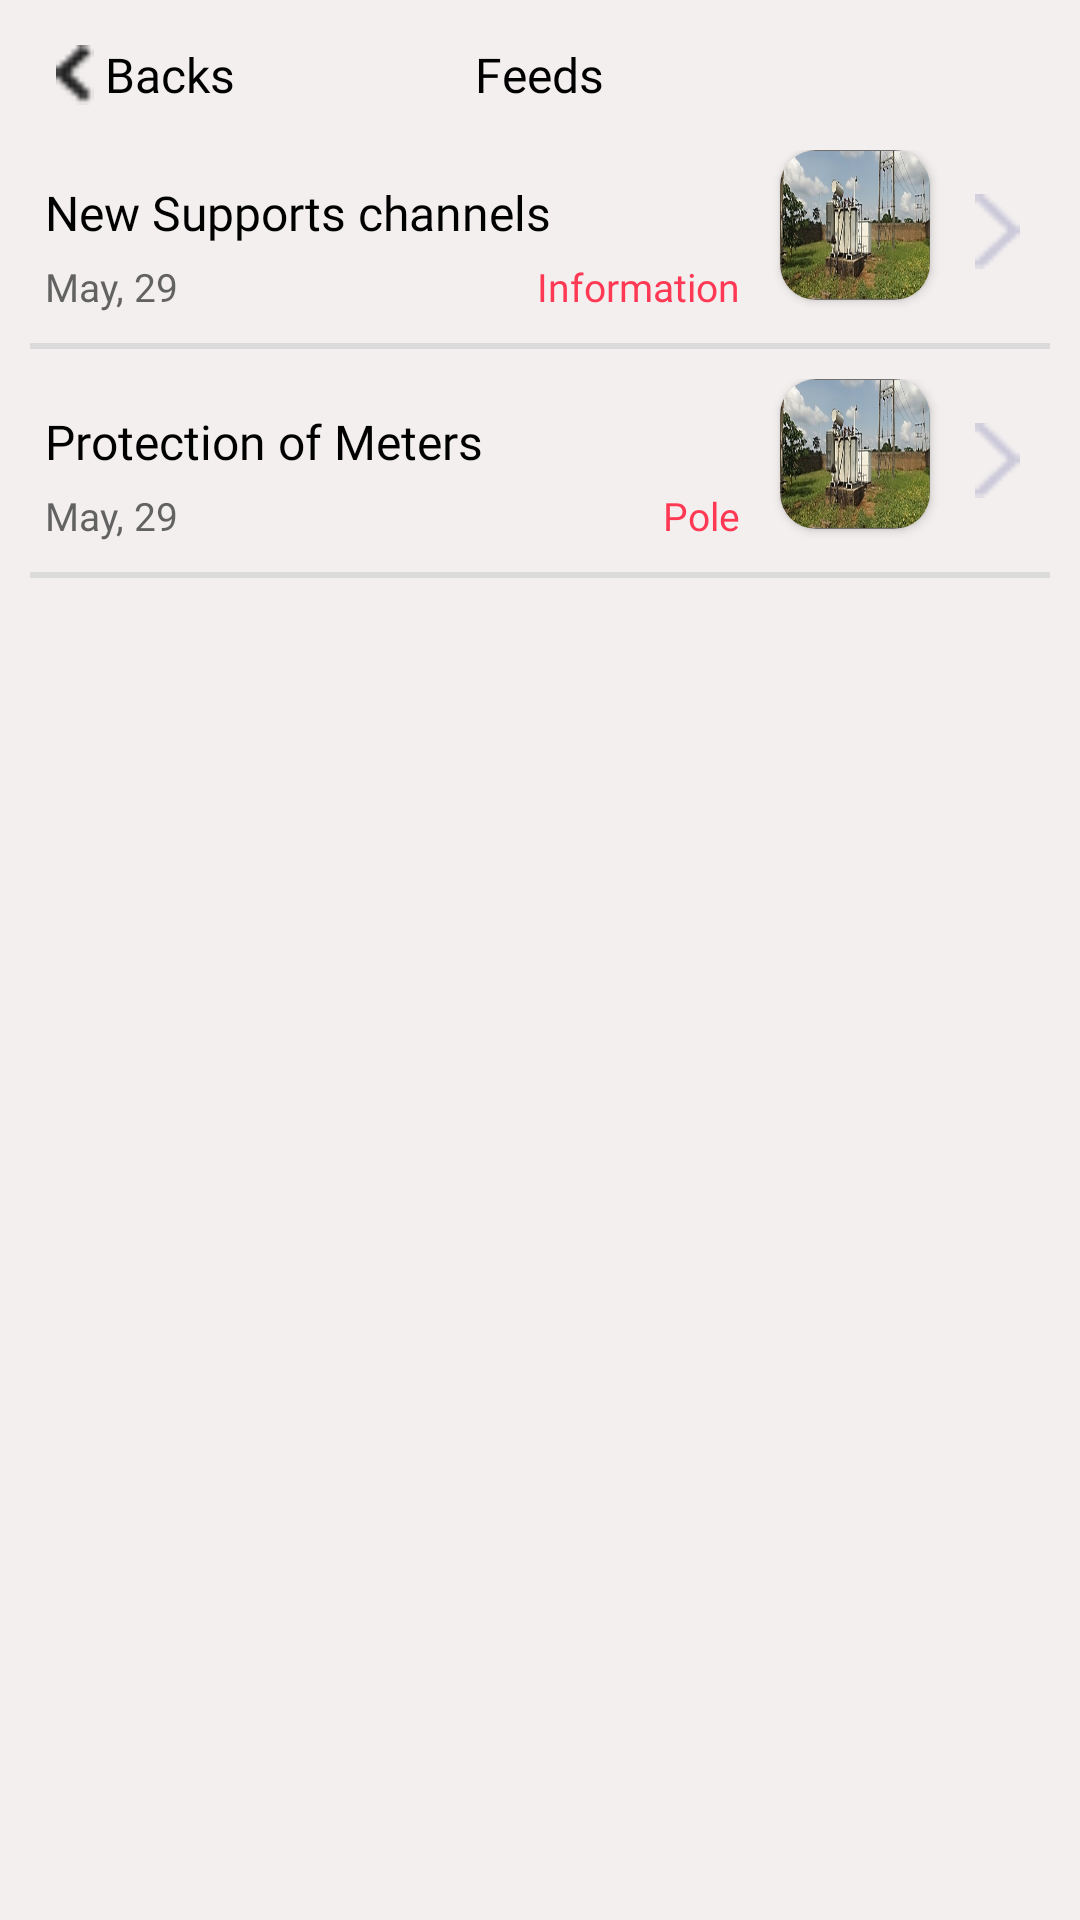

Screen size 1080×1920. Icon name, then its box in pixels as (x1, y1, x2, y2):
right: (975, 194, 1020, 266), (975, 423, 1020, 495)
